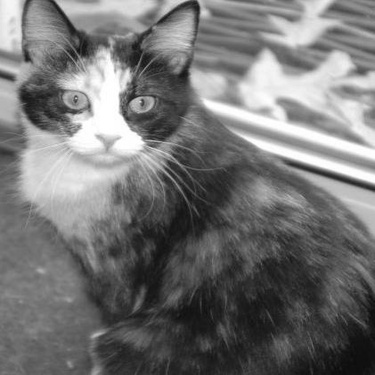cat: (7, 1, 362, 360)
